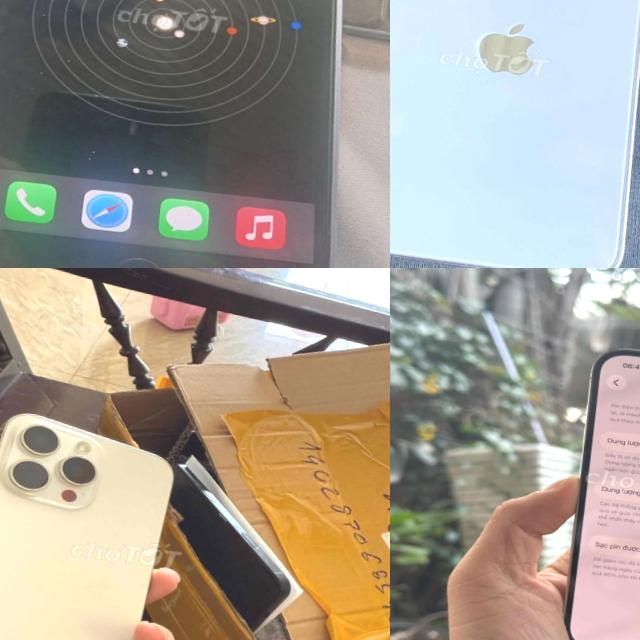gen_12_13: (390, 0, 640, 268)
gen_14: (553, 330, 640, 640)
gen_15: (0, 376, 180, 640)
gen_7_8: (0, 0, 390, 268)
